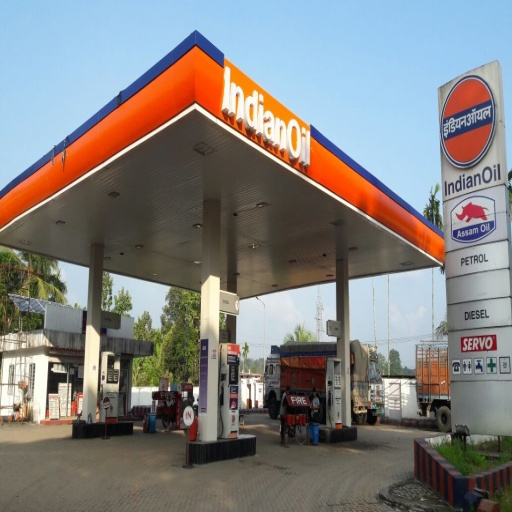roof: (3, 34, 443, 300)
